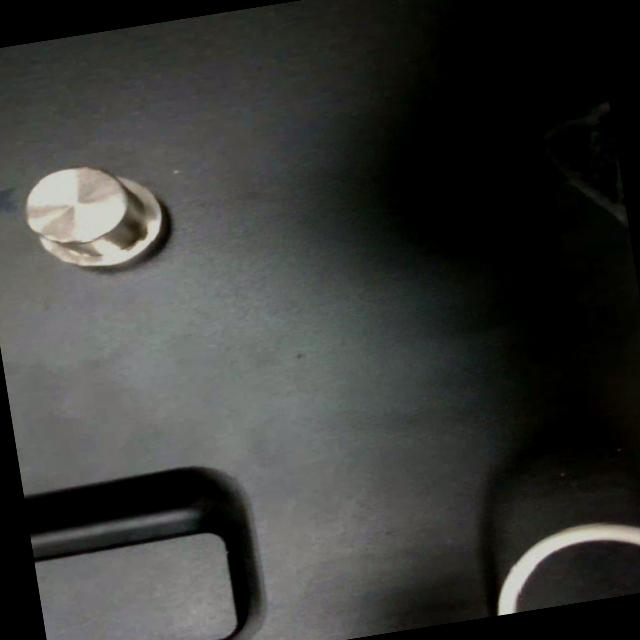sensor: (15, 151, 176, 283)
